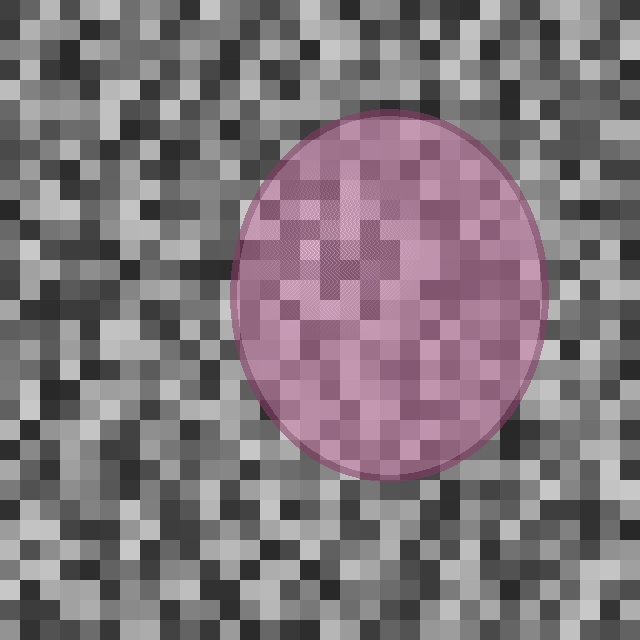lens: (233, 112, 545, 478)
